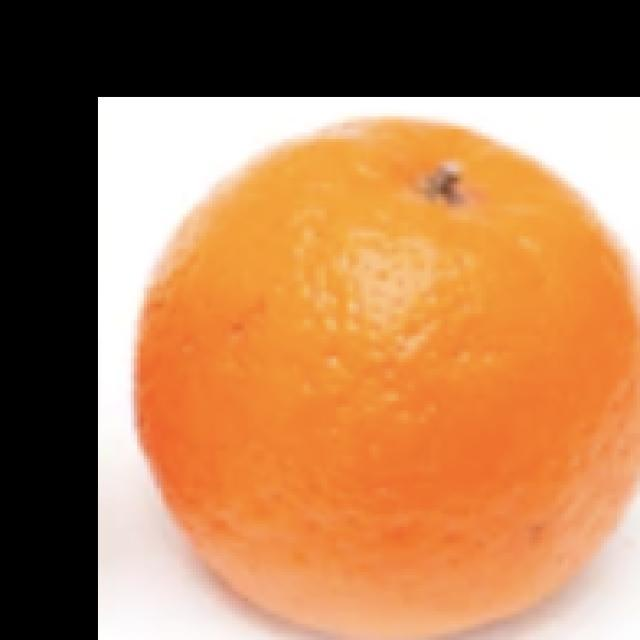Orange: (132, 114, 639, 638)
